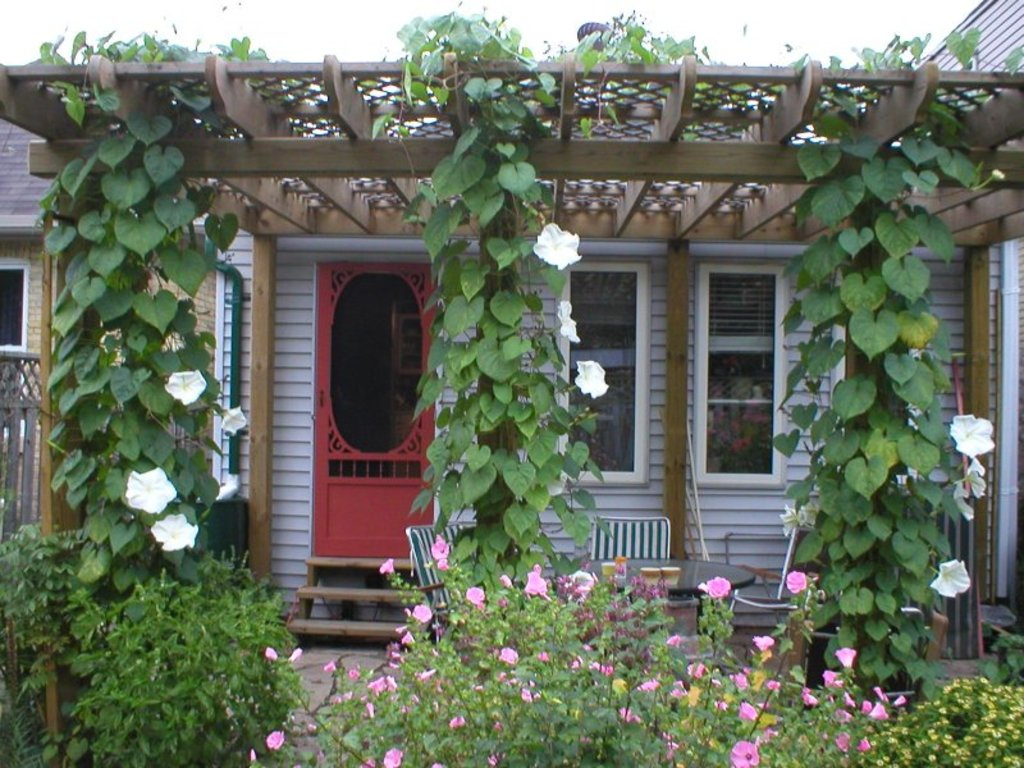door: (318, 273, 422, 560)
